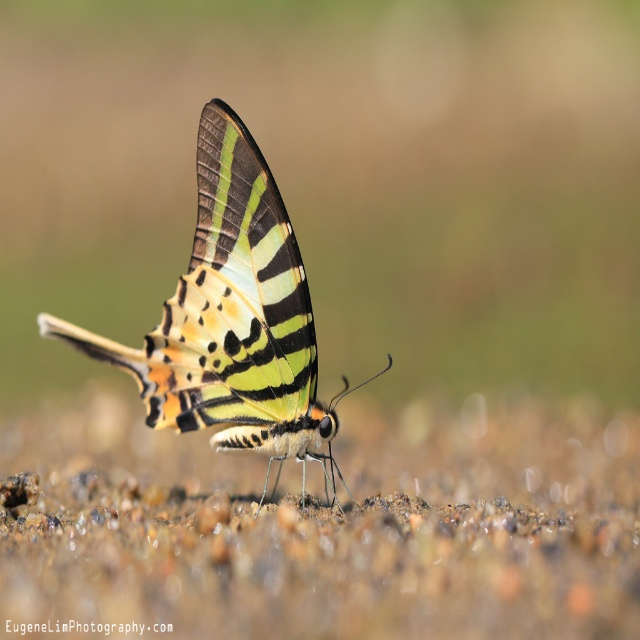Butterfly: (53, 87, 382, 531)
